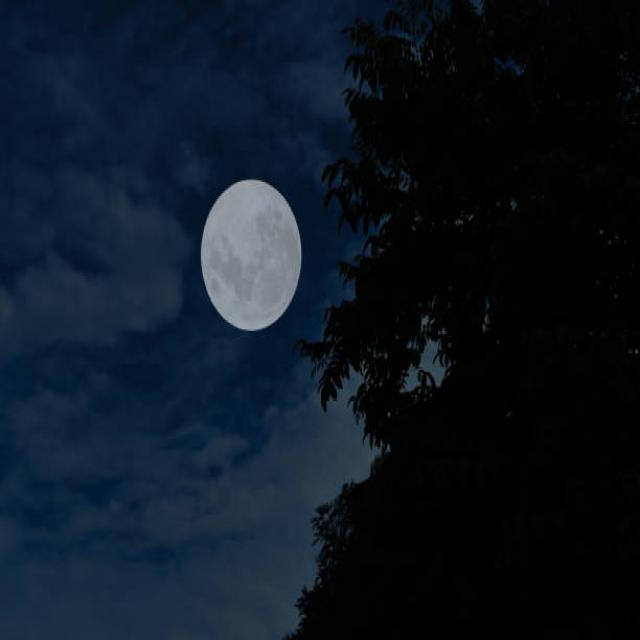moon: (200, 180, 303, 330)
